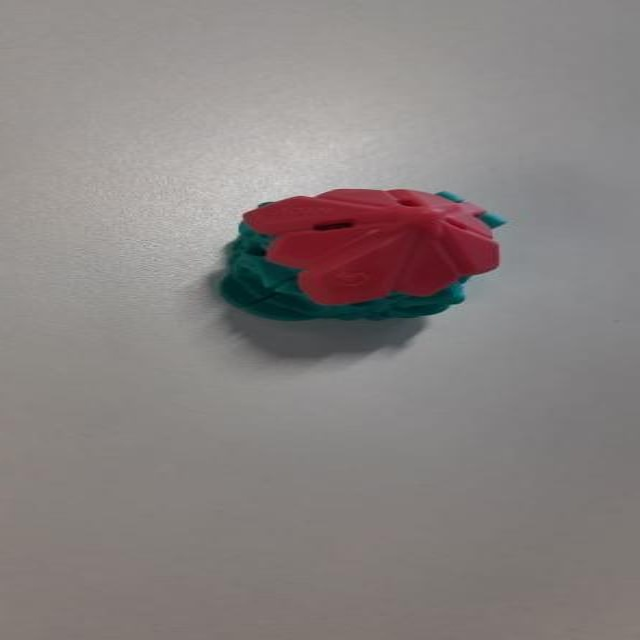House: (203, 179, 504, 329)
